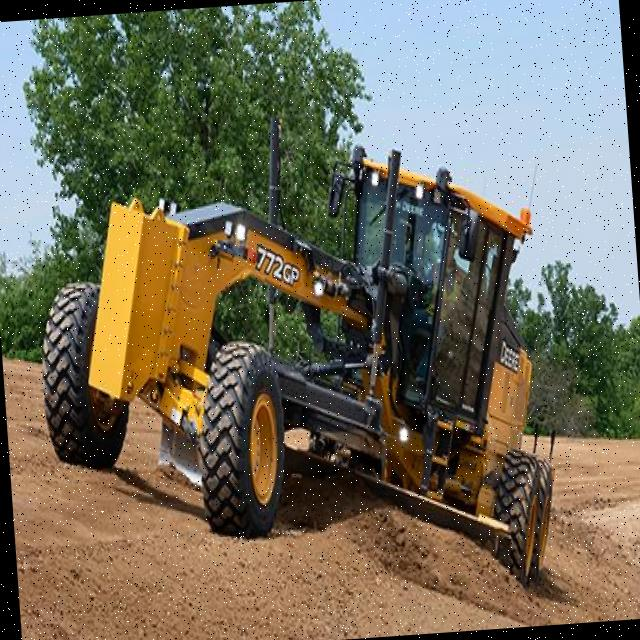Grader: (37, 64, 591, 640)
